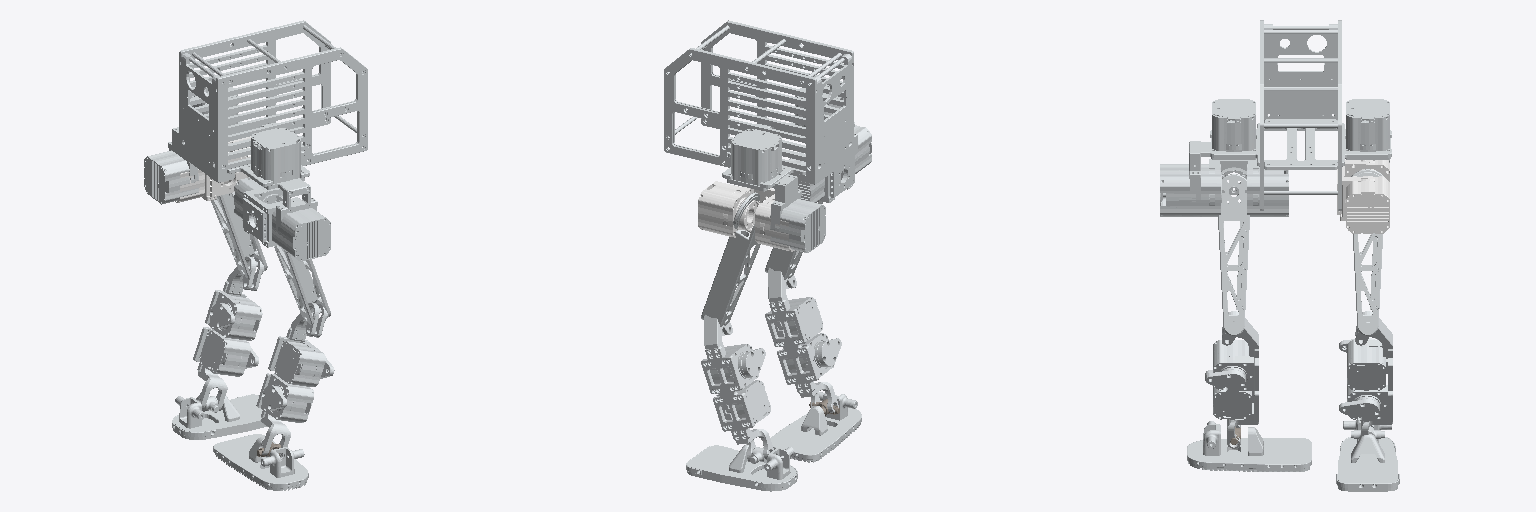
robot.urdf — pi_parallel_12dof_release_v1:
<?xml version="1.0" encoding="utf-8"?>
<!--
This URDF was automatically created by SolidWorks to URDF Exporter! Originally created by [author] ([email redacted])
Commit Version: 1.6.0-4-g7f85cfe  Build Version: 1.6.7995.38578
For more information, please see http://wiki.ros.org/sw_urdf_exporter
-->
<robot name="pi_parallel_12dof_release_v1">
	<mujoco>
		<compiler meshdir="package://pi_parallel_12dof_release_v1/meshes/" balanceinertia="true" discardvisual="false" />
	</mujoco>
	<link name="base_link">
		<inertial>
			<origin xyz="0.00431563 0.00011969 0.07060951" rpy="0 0 0" />
			<mass value="2.47789918" />
			<inertia ixx="0.00983126" ixy="-2.457E-05" ixz="-1.421E-05" iyy="0.0079505" iyz="-2.836E-05" izz="0.00758548" />
		</inertial>
		<visual>
			<origin xyz="0 0 0.0" rpy="0 0 0" />
			<geometry>
				<!-- <box size="0.1 0.1 0.1" /> -->
				<mesh filename="package://pi_parallel_12dof_release_v1/meshes/base_link.STL" />
			</geometry>
			<material name="">
				<color rgba="0.89804 0.91765 0.92941 1" />
			</material>
		</visual>
		<collision>
			<origin xyz="0 0 0.08" rpy="0 0 0" />
			<geometry>
				<box size="0.1 0.1 0.1" />
				<!-- <mesh filename="package://pi_parallel_12dof_release_v1/meshes/base_link.STL" /> -->
			</geometry>
		</collision>
	</link>
	<link name="r_hip_yaw_link">
		<inertial>
			<origin xyz="-0.05213112 0.00012202 -0.05273544" rpy="0 0 0" />
			<mass value="0.34953789" />
			<inertia ixx="0.00022813" ixy="4.5E-07" ixz="-5.884E-05" iyy="0.00025249" iyz="-5.3E-07" izz="0.00016829" />
		</inertial>
		<visual>
			<origin xyz="0 0 0" rpy="0 0 0" />
			<geometry>
				<mesh filename="package://pi_parallel_12dof_release_v1/meshes/r_hip_yaw_link.STL" />
			</geometry>
			<material name="">
				<color rgba="0.89804 0.91765 0.92941 1" />
			</material>
		</visual>
		<collision>
			<origin xyz="0 0 0" rpy="0 0 0" />
			<geometry>
				<box size="0.03 0.03 0.03" />
				<!-- <mesh filename="package://pi_parallel_12dof_release_v1/meshes/r_hip_yaw_link.STL" /> -->
			</geometry>
		</collision>
	</link>
	<joint name="r_hip_yaw_joint" type="revolute">
		<origin xyz="0 -0.075 0" rpy="0 0 0" />
		<parent link="base_link" />
		<child link="r_hip_yaw_link" />
		<axis xyz="0 0 1" />
		<limit lower="-0.8" upper="0.8" effort="21" velocity="21" />
	</joint>
	<link name="r_hip_roll_link">
		<inertial>
			<origin xyz="-0.00214086 0.00022682 -0.00016674" rpy="0 0 0" />
			<mass value="0.67430799" />
			<inertia ixx="0.00098969" ixy="-4.2E-07" ixz="4.2E-07" iyy="0.00031647" iyz="-3.61E-06" izz="0.00101632" />
		</inertial>
		<visual>
			<origin xyz="0 0 0" rpy="0 0 0" />
			<geometry>
				<mesh filename="package://pi_parallel_12dof_release_v1/meshes/r_hip_roll_link.STL" />
			</geometry>
			<material name="">
				<color rgba="0.89804 0.91765 0.92941 1" />
			</material>
		</visual>
		<collision>
			<origin xyz="-0.05 0 0" rpy="0 0 0" />
			<geometry>
				<box size="0.03 0.03 0.03" />
				<!-- <mesh filename="package://pi_parallel_12dof_release_v1/meshes/r_hip_roll_link.STL" /> -->
			</geometry>
		</collision>
	</link>
	<joint name="r_hip_roll_joint" type="revolute">
		<origin xyz="0 0 -0.059" rpy="0 0 0" />
		<parent link="r_hip_yaw_link" />
		<child link="r_hip_roll_link" />
		<axis xyz="1 0 0" />
		<limit lower="-0.5" upper="0.157" effort="21" velocity="21" />
	</joint>
	<link name="r_thigh_link">
		<inertial>
			<origin xyz="0.00297238 -0.00090907 -0.08046401" rpy="0 0 0" />
			<mass value="0.11782962" />
			<inertia ixx="0.00033866" ixy="-3.1E-07" ixz="-4.47E-06" iyy="0.00033903" iyz="7.6E-06" izz="2.542E-05" />
		</inertial>
		<visual>
			<origin xyz="0 0 0" rpy="0 0 0" />
			<geometry>
				<mesh filename="package://pi_parallel_12dof_release_v1/meshes/r_thigh_link.STL" />
			</geometry>
			<material name="">
				<color rgba="0.89804 0.91765 0.92941 1" />
			</material>
		</visual>
		<collision>
			<origin xyz="0 0 -0.07" rpy="0 0 0" />
			<geometry>
				<box size="0.03 0.03 0.10" />
				<!-- <mesh filename="package://pi_parallel_12dof_release_v1/meshes/r_thigh_link.STL" /> -->
			</geometry>
		</collision>
	</link>
	<joint name="r_thigh_joint" type="revolute">
		<origin xyz="0 0 0" rpy="0 -0.35 0" />
		<parent link="r_hip_roll_link" />
		<child link="r_thigh_link" />
		<axis xyz="0 1 0" />
		<limit lower="-1.2" upper="0.6" effort="21" velocity="21" />
	</joint>
	<link name="r_calf_link">
		<inertial>
			<origin xyz="0.00199394 0 -0.08688477" rpy="0 0 0" />
			<mass value="0.53090962" />
			<inertia ixx="0.00070182" ixy="1E-08" ixz="-8.98E-06" iyy="0.00072293" iyz="4.927E-05" izz="0.00018922" />
		</inertial>
		<visual>
			<origin xyz="0 0 0" rpy="0 0 0" />
			<geometry>
				<mesh filename="package://pi_parallel_12dof_release_v1/meshes/r_calf_link.STL" />
			</geometry>
			<material name="">
				<color rgba="0.89804 0.91765 0.92941 1" />
			</material>
		</visual>
		<collision>
			<origin xyz="0 0 -0.08" rpy="0 0 0" />
			<geometry>
				<box size="0.04 0.04 0.10" />
				<!-- <mesh filename="package://pi_parallel_12dof_release_v1/meshes/r_calf_link.STL" /> -->
			</geometry>
		</collision>
	</link>
	<joint name="r_calf_joint" type="revolute">
		<origin xyz="0 0 -0.15" rpy="0 0.7 0" />
		<parent link="r_thigh_link" />
		<child link="r_calf_link" />
		<axis xyz="0 1 0" />
		<limit lower="-0.7" upper="1.6" effort="21" velocity="21" />
	</joint>
	<link name="r_ankle_pitch_link">
		<inertial>
			<origin xyz="0 0 0" rpy="0 0 0" />
			<mass value="0.01158437" />
			<inertia ixx="4.5E-07" ixy="0" ixz="0" iyy="1.12E-06" iyz="0" izz="1.21E-06" />
		</inertial>
		<visual>
			<origin xyz="0 0 0" rpy="0 0 0" />
			<geometry>
				<mesh filename="package://pi_parallel_12dof_release_v1/meshes/r_ankle_pitch_link.STL" />
			</geometry>
			<material name="">
				<color rgba="0.65098 0.61961 0.58824 1" />
			</material>
		</visual>
		<collision>
			<origin xyz="0 0 0" rpy="0 0 0" />
			<geometry>
				<mesh filename="package://pi_parallel_12dof_release_v1/meshes/r_ankle_pitch_link.STL" />
			</geometry>
		</collision>
	</link>
	<joint name="r_ankle_pitch_joint" type="revolute">
		<origin xyz="0 0 -0.17545" rpy="0 -0.35 0" />
		<parent link="r_calf_link" />
		<child link="r_ankle_pitch_link" />
		<axis xyz="0 1 0" />
		<limit lower="-0.3" upper="0.85" effort="21" velocity="21" />
	</joint>
	<link name="r_ankle_roll_link">
		<inertial>
			<origin xyz="0.016631 -2.06E-06 -0.021104" rpy="0 0 0" />
			<mass value="0.26606" />
			<inertia ixx="0.00010328" ixy="-1E-08" ixz="2.208E-05" iyy="0.00039542" iyz="2E-08" izz="0.00045941" />
		</inertial>
		<visual>
			<origin xyz="0 0 0" rpy="0 0 0" />
			<geometry>
				<mesh filename="package://pi_parallel_12dof_release_v1/meshes/r_ankle_roll_link.STL" />
			</geometry>
			<material name="">
				<color rgba="0.89804 0.91765 0.92941 1" />
			</material>
		</visual>
		<collision>
			<origin xyz="0 0 0" rpy="0 0 0" />
			<geometry>
				<mesh filename="package://pi_parallel_12dof_release_v1/meshes/r_ankle_roll_link.STL" />
			</geometry>
		</collision>
	</link>
	<joint name="r_ankle_roll_joint" type="revolute">
		<origin xyz="0 0 0" rpy="0 0 0" />
		<parent link="r_ankle_pitch_link" />
		<child link="r_ankle_roll_link" />
		<axis xyz="1 0 0" />
		<limit lower="-0.25" upper="0.7" effort="21" velocity="21" />
	</joint>
	<link name="l_hip_yaw_link">
		<inertial>
			<origin xyz="-0.05287777 -6.958E-05 -0.05288161" rpy="0 0 0" />
			<mass value="0.34953789" />
			<inertia ixx="0.00023311" ixy="-2.6E-07" ixz="-5.987E-05" iyy="0.00025057" iyz="3.9E-07" izz="0.00016652" />
		</inertial>
		<visual>
			<origin xyz="0 0 0" rpy="0 0 0" />
			<geometry>
				<mesh filename="package://pi_parallel_12dof_release_v1/meshes/l_hip_yaw_link.STL" />
			</geometry>
			<material name="">
				<color rgba="0.89804 0.91765 0.92941 1" />
			</material>
		</visual>
		<collision>
			<origin xyz="0 0 0" rpy="0 0 0" />
			<geometry>
				<box size="0.03 0.03 0.03" />
				<!-- <mesh filename="package://pi_parallel_12dof_release_v1/meshes/l_hip_yaw_link.STL" /> -->
			</geometry>
		</collision>
	</link>
	<joint name="l_hip_yaw_joint" type="revolute">
		<origin xyz="0 0.075 0" rpy="0 0 0" />
		<parent link="base_link" />
		<child link="l_hip_yaw_link" />
		<axis xyz="0 0 1" />
		<limit lower="-0.8" upper="0.8" effort="21" velocity="21" />
	</joint>
	<link name="l_hip_roll_link">
		<inertial>
			<origin xyz="-0.00198932 -0.00022682 -0.00016674" rpy="0 0 0" />
			<mass value="0.67430799" />
			<inertia ixx="0.00101903" ixy="3.9E-07" ixz="4E-07" iyy="0.00032559" iyz="2.13E-06" izz="0.00104452" />
		</inertial>
		<visual>
			<origin xyz="0 0 0" rpy="0 0 0" />
			<geometry>
				<mesh filename="package://pi_parallel_12dof_release_v1/meshes/l_hip_roll_link.STL" />
			</geometry>
			<material name="">
				<color rgba="1 1 1 1" />
			</material>
		</visual>
		<collision>
			<origin xyz="-0.05 0 0" rpy="0 0 0" />
			<geometry>
				<box size="0.03 0.03 0.03" />
				<!-- <mesh filename="package://pi_parallel_12dof_release_v1/meshes/l_hip_roll_link.STL" /> -->
			</geometry>
		</collision>
	</link>
	<joint name="l_hip_roll_joint" type="revolute">
		<origin xyz="0 0 -0.059" rpy="0 0 0" />
		<parent link="l_hip_yaw_link" />
		<child link="l_hip_roll_link" />
		<axis xyz="1 0 0" />
		<limit lower="-0.157" upper="0.5" effort="21" velocity="21" />
	</joint>
	<link name="l_thigh_link">
		<inertial>
			<origin xyz="0.00290507 0.00062807 -0.07864192" rpy="0 0 0" />
			<mass value="0.12055967" />
			<inertia ixx="0.00035689" ixy="2.1E-07" ixz="-3.83E-06" iyy="0.0003574" iyz="-4.94E-06" izz="2.64E-05" />
		</inertial>
		<visual>
			<origin xyz="0 0 0" rpy="0 0 0" />
			<geometry>
				<mesh filename="package://pi_parallel_12dof_release_v1/meshes/l_thigh_link.STL" />
			</geometry>
			<material name="">
				<color rgba="0.89804 0.91765 0.92941 1" />
			</material>
		</visual>
		<collision>
			<origin xyz="0 0 -0.07" rpy="0 0 0" />
			<geometry>
				<box size="0.03 0.03 0.10" />
				<!-- <mesh filename="package://pi_parallel_12dof_release_v1/meshes/l_thigh_link.STL" /> -->
			</geometry>
		</collision>
	</link>
	<joint name="l_thigh_joint" type="revolute">
		<origin xyz="0 0 0" rpy="0 -0.35 0" />
		<parent link="l_hip_roll_link" />
		<child link="l_thigh_link" />
		<axis xyz="0 1 0" />
		<limit lower="-1.2" upper="0.6" effort="21" velocity="21" />
	</joint>
	<link name="l_calf_link">
		<inertial>
			<origin xyz="0.00199394 0 -0.08688477" rpy="0 0 0" />
			<mass value="0.5309096" />
			<inertia ixx="0.00066601" ixy="-1E-08" ixz="-9.12E-06" iyy="0.00068609" iyz="-4.268E-05" izz="0.00015353" />
		</inertial>
		<visual>
			<origin xyz="0 0 0" rpy="0 0 0" />
			<geometry>
				<mesh filename="package://pi_parallel_12dof_release_v1/meshes/l_calf_link.STL" />
			</geometry>
			<material name="">
				<color rgba="0.89804 0.91765 0.92941 1" />
			</material>
		</visual>
		<collision>
			<origin xyz="0 0 -0.08" rpy="0 0 0" />
			<geometry>
				<box size="0.04 0.04 0.10" />
				<!-- <mesh filename="package://pi_parallel_12dof_release_v1/meshes/l_calf_link.STL" /> -->
			</geometry>
		</collision>
	</link>
	<joint name="l_calf_joint" type="revolute">
		<origin xyz="0 0 -0.15" rpy="0 0.7 0" />
		<parent link="l_thigh_link" />
		<child link="l_calf_link" />
		<axis xyz="0 1 0" />
		<limit lower="-0.7" upper="1.6" effort="21" velocity="21" />
	</joint>
	<link name="l_ankle_pitch_link">
		<inertial>
			<origin xyz="0 0 0" rpy="0 0 0" />
			<mass value="0.01158437" />
			<inertia ixx="4.5E-07" ixy="0" ixz="0" iyy="1.12E-06" iyz="0" izz="1.21E-06" />
		</inertial>
		<visual>
			<origin xyz="0 0 0" rpy="0 0 0" />
			<geometry>
				<mesh filename="package://pi_parallel_12dof_release_v1/meshes/l_ankle_pitch_link.STL" />
			</geometry>
			<material name="">
				<color rgba="0.89804 0.91765 0.92941 1" />
			</material>
		</visual>
		<collision>
			<origin xyz="0 0 0" rpy="0 0 0" />
			<geometry>
				<mesh filename="package://pi_parallel_12dof_release_v1/meshes/l_ankle_pitch_link.STL" />
			</geometry>
		</collision>
	</link>
	<joint name="l_ankle_pitch_joint" type="revolute">
		<origin xyz="0 0 -0.17545" rpy="0 -0.35 0" />
		<parent link="l_calf_link" />
		<child link="l_ankle_pitch_link" />
		<axis xyz="0 1 0" />
		<limit lower="-0.3" upper="0.85" effort="21" velocity="21" />
	</joint>
	<link name="l_ankle_roll_link">
		<inertial>
			<origin xyz="0.016631 -2.06E-06 -0.021104" rpy="0 0 0" />
			<mass value="0.26319" />
			<inertia ixx="0.00010189" ixy="0" ixz="2E-05" iyy="0.00039075" iyz="-2E-08" izz="0.00045603" />
		</inertial>
		<visual>
			<origin xyz="0 0 0" rpy="0 0 0" />
			<geometry>
				<mesh filename="package://pi_parallel_12dof_release_v1/meshes/l_ankle_roll_link.STL" />
			</geometry>
			<material name="">
				<color rgba="0.89804 0.91765 0.92941 1" />
			</material>
		</visual>
		<collision>
			<origin xyz="0 0 0" rpy="0 0 0" />
			<geometry>
				<mesh filename="package://pi_parallel_12dof_release_v1/meshes/l_ankle_roll_link.STL" />
			</geometry>
		</collision>
	</link>
	<joint name="l_ankle_roll_joint" type="revolute">
		<origin xyz="0 0 0" rpy="0 0 0" />
		<parent link="l_ankle_pitch_link" />
		<child link="l_ankle_roll_link" />
		<axis xyz="1 0 0" />
		<limit lower="-0.7" upper="0.25" effort="21" velocity="21" />
	</joint>
</robot>

--- What the picture shows (computed from the rendered views, not written in the file) ---
3 views of the same robot in one strip: view 1: azimuth 30°, elevation 25°; view 2: azimuth 150°, elevation 25°; view 3: azimuth 270°, elevation 25° (orthographic).
Robot: pi_parallel_12dof_release_v1 — 13 links, 12 joints (12 revolute); root link base_link; default pose: all joints at 0.
Links seen in each view (by area): view 1: base_link, l_calf_link, r_calf_link, r_ankle_roll_link, r_hip_yaw_link, l_ankle_roll_link, r_hip_roll_link, l_hip_yaw_link, r_thigh_link, l_thigh_link, l_hip_roll_link; view 2: base_link, r_calf_link, l_calf_link, l_ankle_roll_link, l_hip_roll_link, r_ankle_roll_link, l_thigh_link, l_hip_yaw_link, r_hip_roll_link, r_thigh_link, r_hip_yaw_link; view 3: base_link, r_calf_link, l_calf_link, r_ankle_roll_link, r_hip_roll_link, l_ankle_roll_link, l_hip_roll_link, r_thigh_link, r_hip_yaw_link, l_thigh_link.
Boxes of the visible links, box(x1,y1,x2,y2) form: base_link: box(179, 20, 367, 189); l_calf_link: box(193, 256, 264, 410); r_calf_link: box(256, 303, 334, 456); r_ankle_roll_link: box(213, 434, 308, 490); r_hip_yaw_link: box(275, 179, 330, 261); l_ankle_roll_link: box(172, 394, 266, 439); r_hip_roll_link: box(234, 177, 315, 252); l_hip_yaw_link: box(144, 127, 198, 204); r_thigh_link: box(262, 195, 330, 324); l_thigh_link: box(211, 192, 267, 278); l_hip_roll_link: box(175, 136, 250, 202); base_link: box(664, 20, 854, 191); r_calf_link: box(765, 268, 841, 412); l_calf_link: box(701, 315, 773, 461); l_ankle_roll_link: box(686, 444, 797, 491); l_hip_roll_link: box(698, 181, 794, 251); r_ankle_roll_link: box(770, 392, 861, 462); l_thigh_link: box(701, 192, 760, 329); l_hip_yaw_link: box(770, 174, 825, 252); r_hip_roll_link: box(774, 136, 862, 202); r_thigh_link: box(765, 201, 822, 282); r_hip_yaw_link: box(854, 125, 871, 173); base_link: box(1210, 20, 1391, 210); r_calf_link: box(1205, 311, 1258, 448); l_calf_link: box(1339, 311, 1392, 436); r_ankle_roll_link: box(1187, 421, 1311, 471); r_hip_roll_link: box(1179, 159, 1288, 216); l_ankle_roll_link: box(1336, 419, 1399, 491); l_hip_roll_link: box(1337, 160, 1389, 233); r_thigh_link: box(1218, 167, 1249, 335); r_hip_yaw_link: box(1160, 141, 1211, 216); l_thigh_link: box(1351, 169, 1383, 335).
Bounding box of the posed robot: 0.2219 × 0.268 × 0.5167 m (x, y, z).
13 mesh visuals loaded from 13 distinct referenced files (13 binary STL).